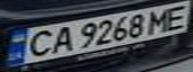2: (93, 16, 118, 46)
6: (112, 14, 133, 43)
8: (127, 11, 151, 38)
9: (75, 20, 100, 51)
A: (48, 24, 78, 54)
C: (18, 27, 57, 58)
E: (160, 2, 193, 32)
M: (142, 6, 175, 34)
